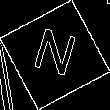N_S: (29, 25, 81, 85)
